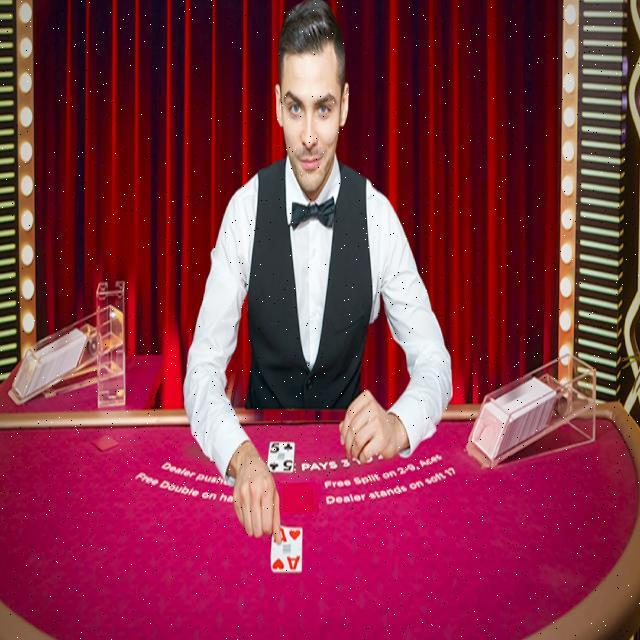Card-5: (267, 439, 294, 469)
Card-A: (271, 519, 301, 571)
